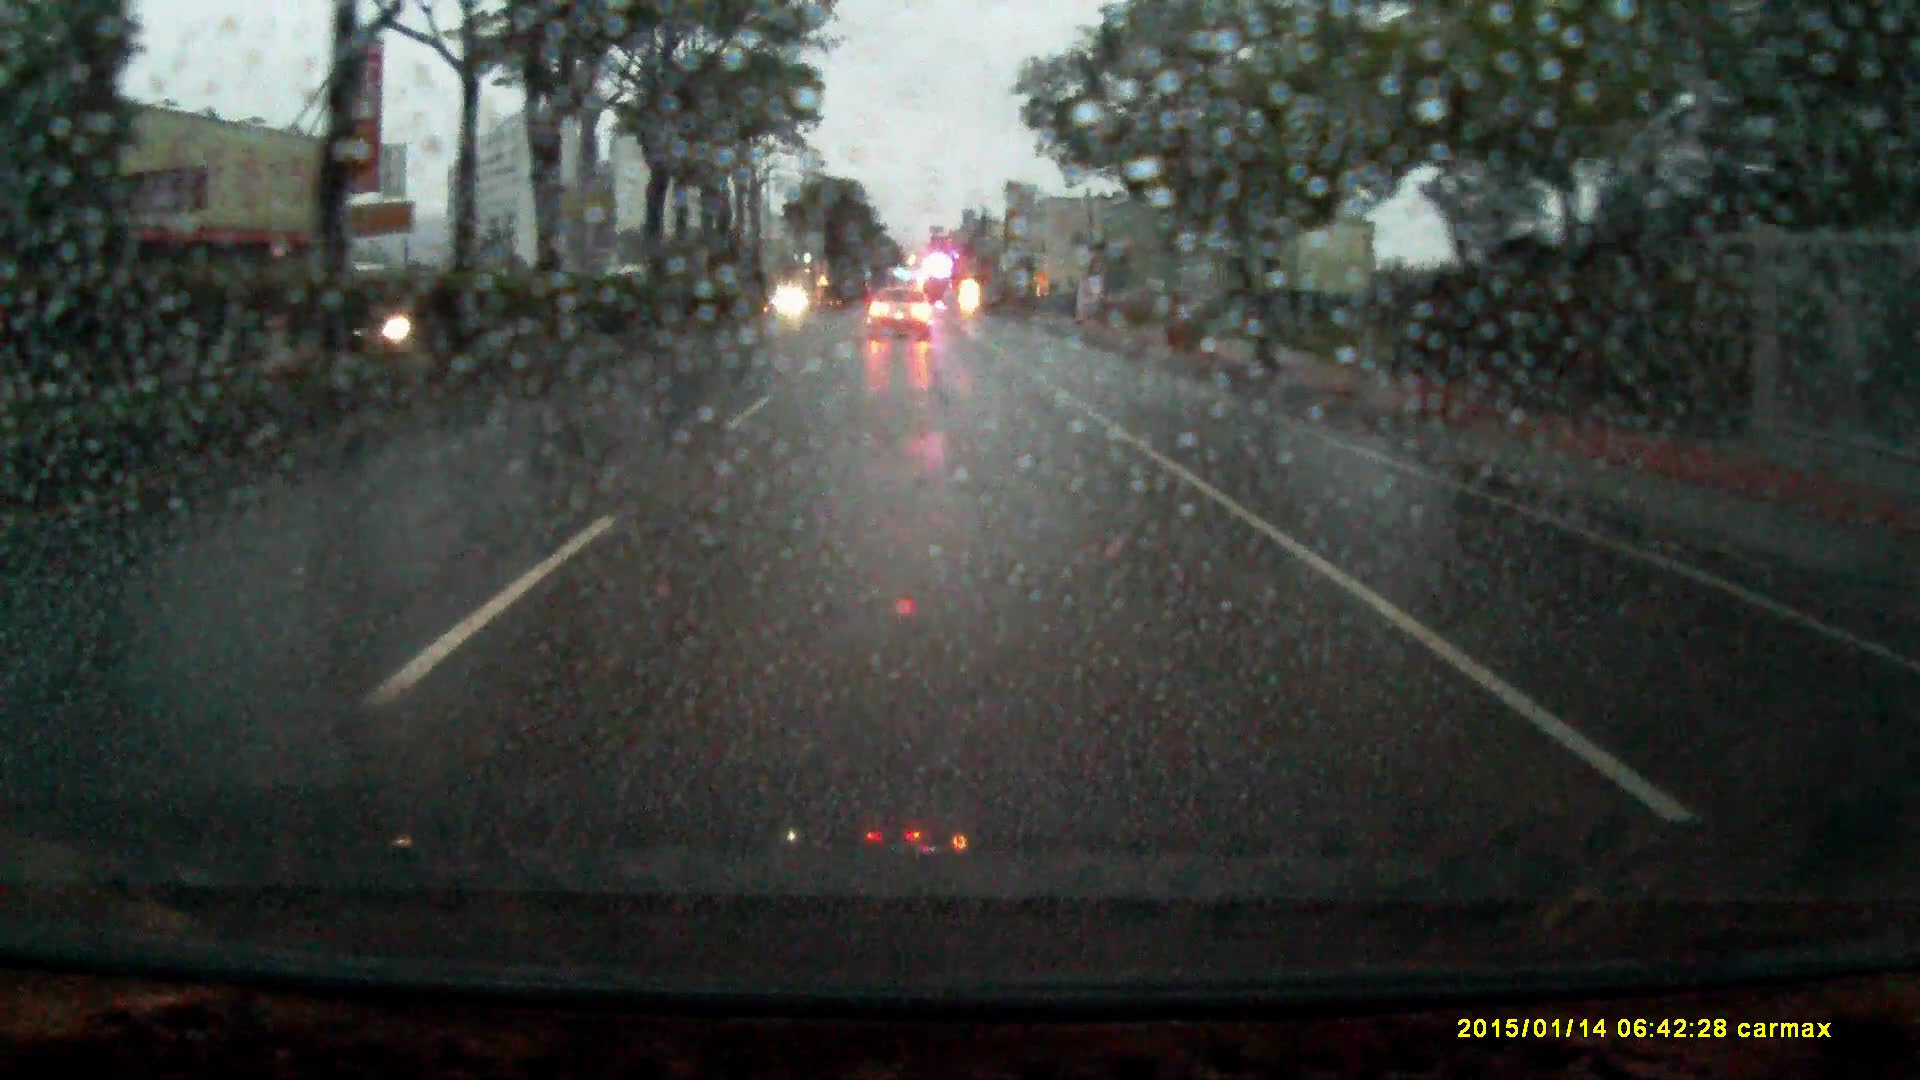vehicle: (870, 290, 934, 344)
